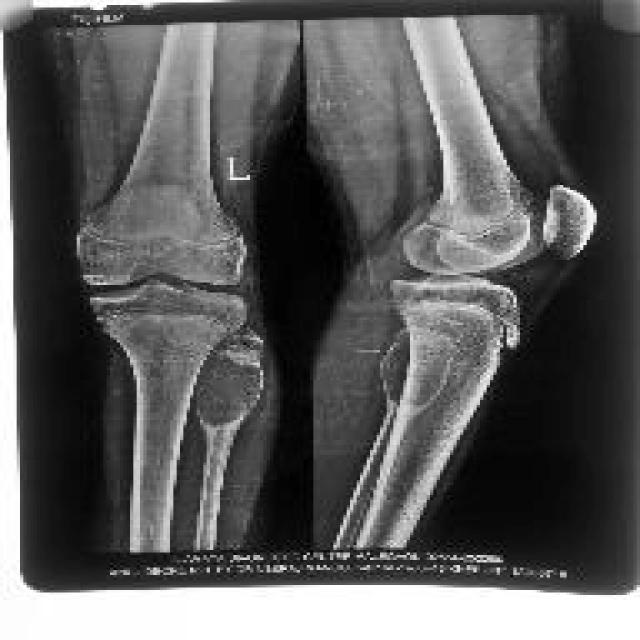bone-cancer: (378, 329, 453, 415), (196, 344, 267, 425)
